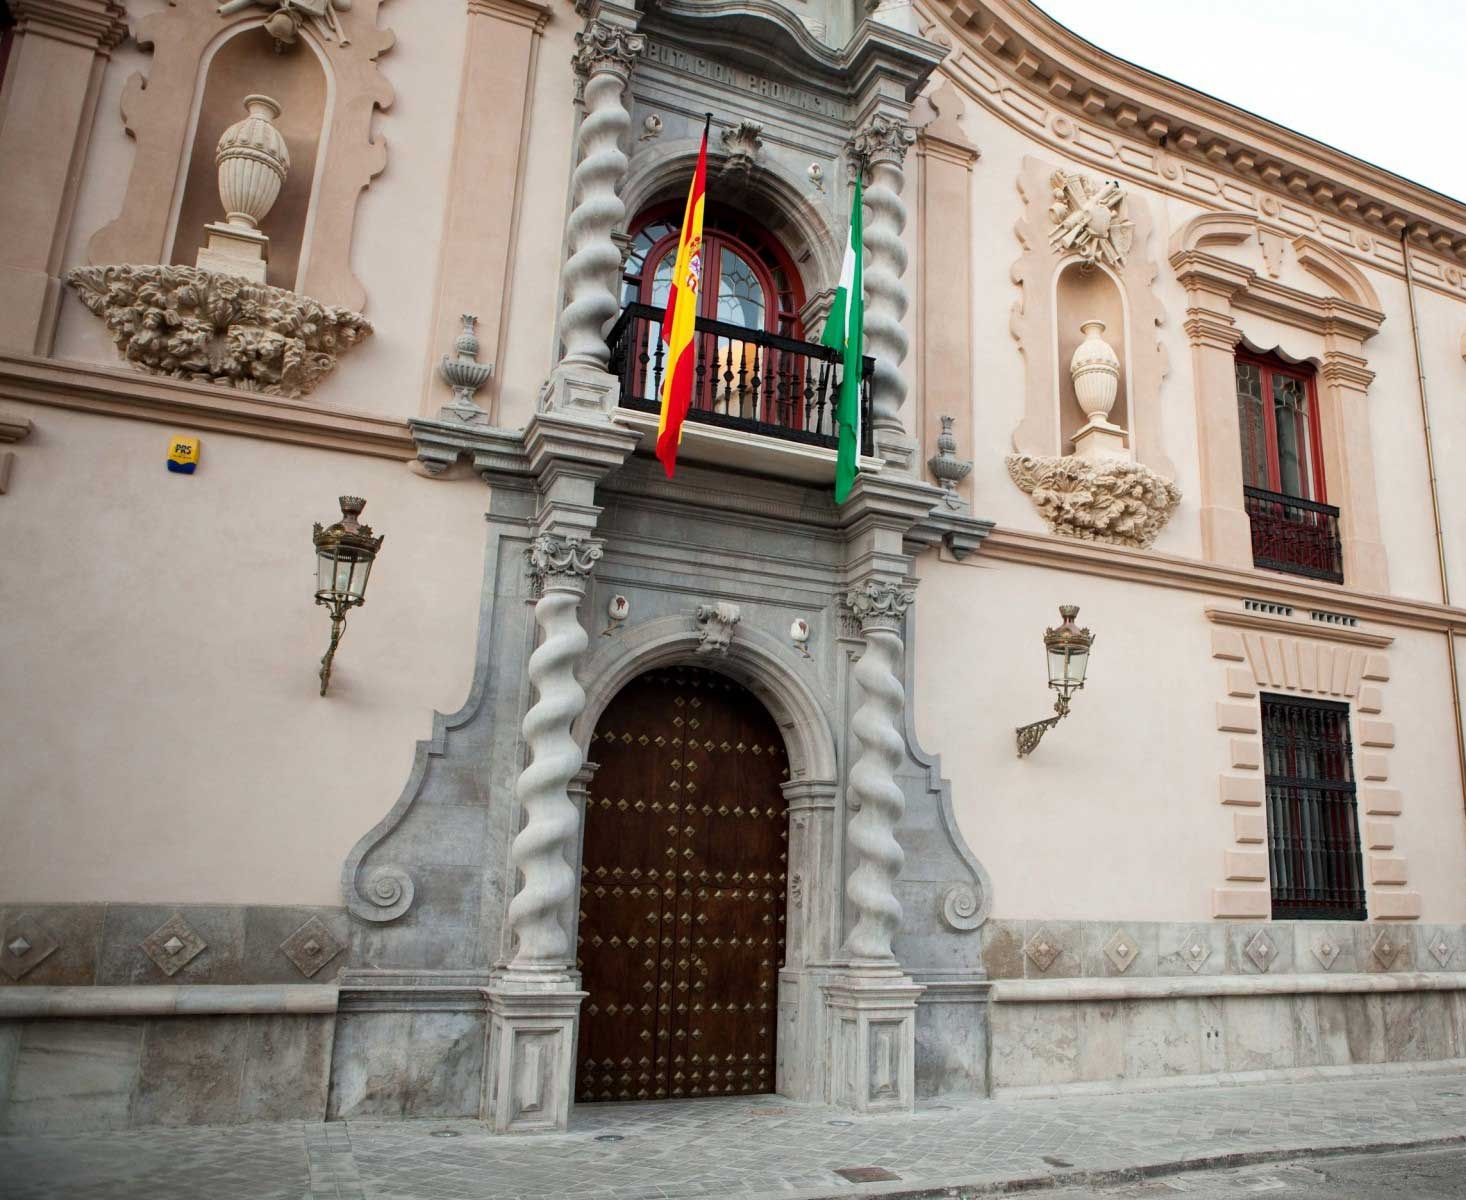arco-medio-punto: (578, 623, 826, 818), (622, 148, 836, 312)
columna-salomonica: (500, 590, 597, 977), (835, 624, 911, 961), (556, 79, 636, 369), (856, 164, 912, 458)
fronton-partido: (1166, 207, 1387, 335)
vano-adintelado: (1247, 675, 1373, 927)
